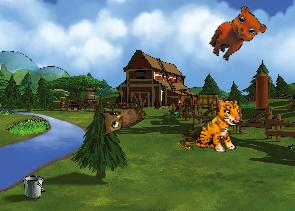bear: (204, 0, 270, 71)
owl: (94, 92, 148, 140)
tiger: (195, 98, 241, 153)
